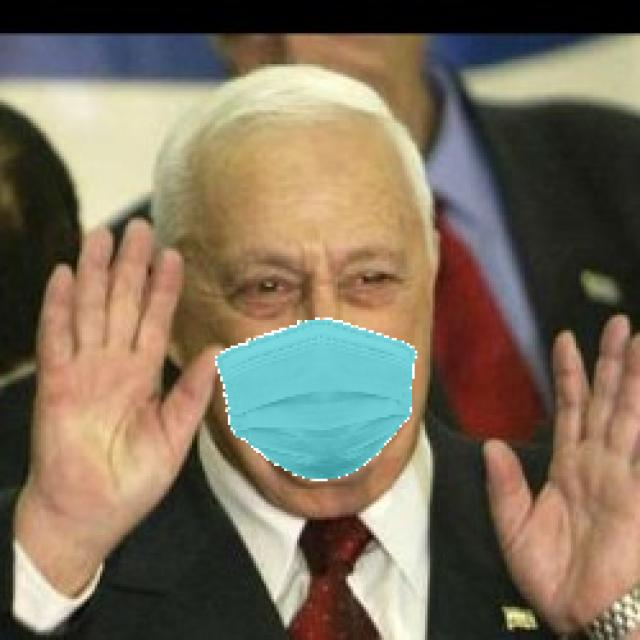mask: (184, 319, 436, 492)
